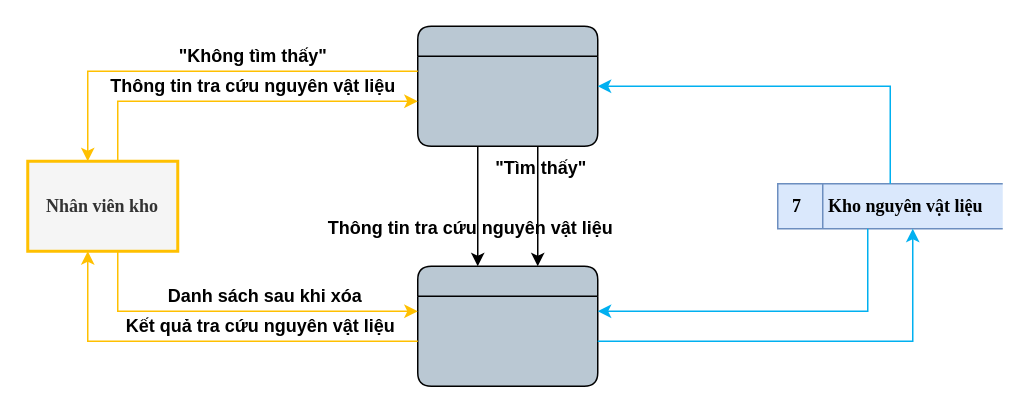
Image size: 1029x413. Some labels were removed from this diagram. Each missing label, with the box of its shape:
3.3.1 TÌM NGUYÊN VẬT LIỆU CẦN XÓA: (416, 25, 598, 146)
3.3.2 XÁC NHẬN XÓA NGUYÊN VẬT LIỆU: (416, 265, 598, 386)
